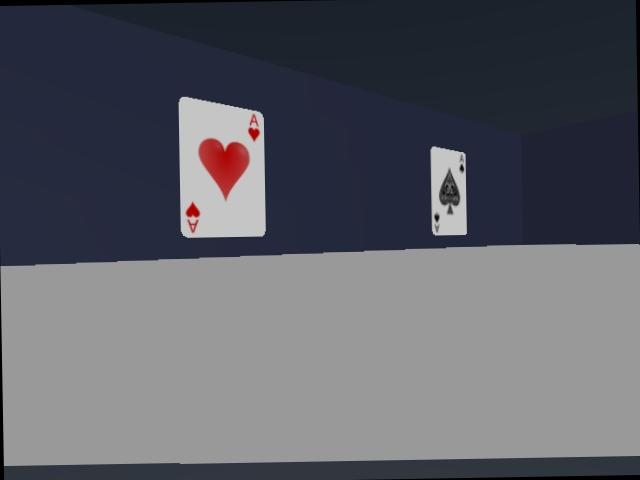heart: (179, 97, 265, 237)
spade: (430, 146, 466, 235)
